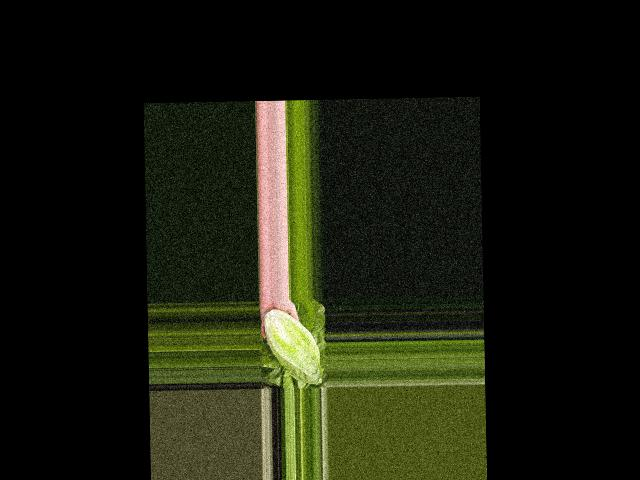lettuce: (261, 307, 322, 385)
